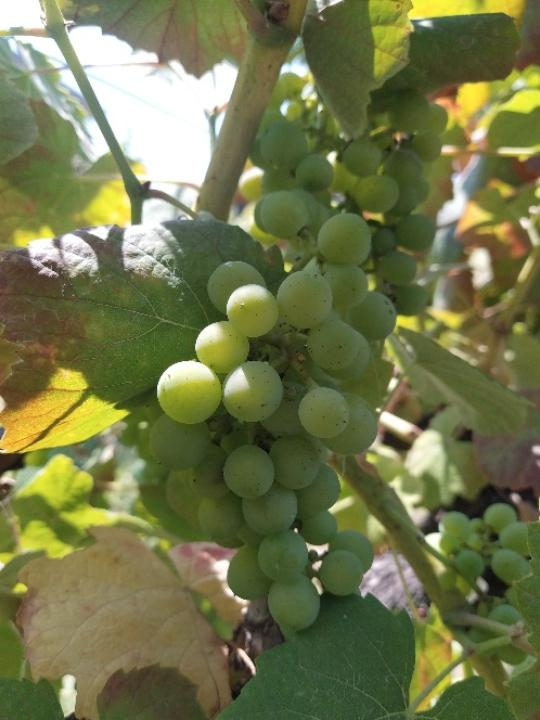grape: (153, 209, 400, 636)
